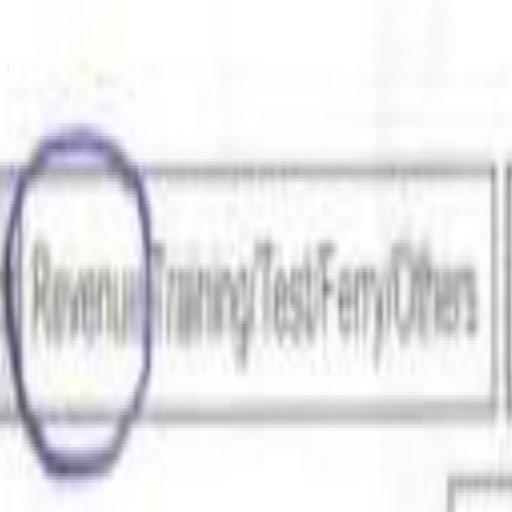check: (22, 122, 145, 498)
